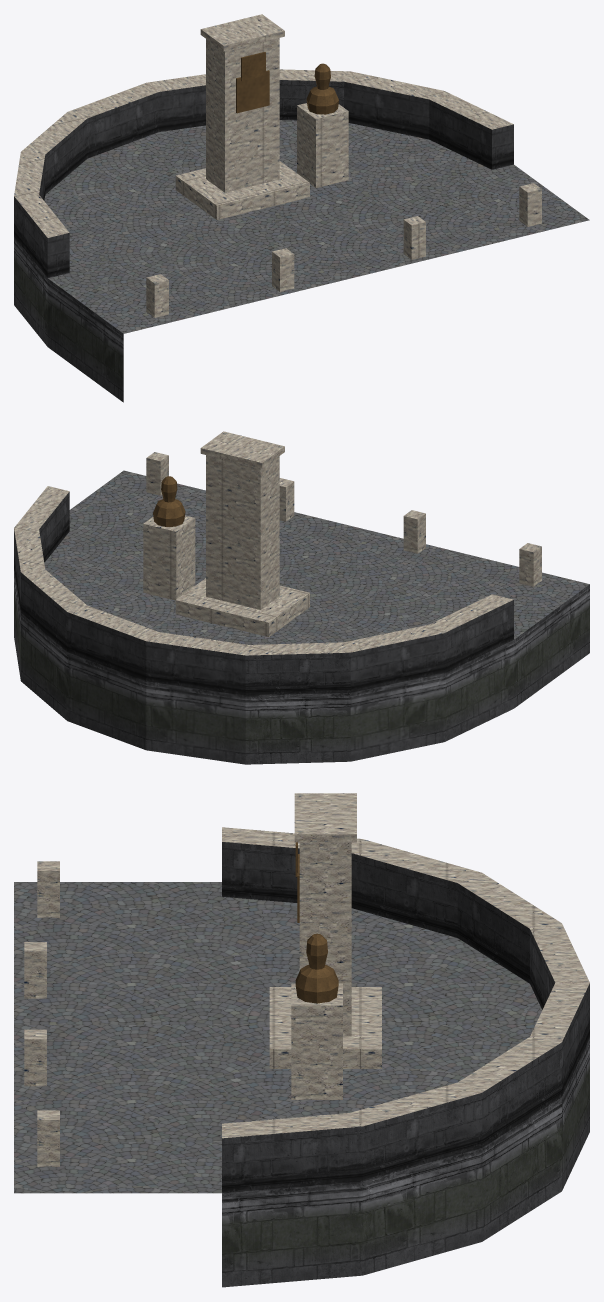
File: SM_MoloItalia_Monumento_LOD2.fbx
The picture shows the model from 3 angles, top to bottom: view 1: azimuth 30°, elevation 25°; view 2: azimuth 150°, elevation 25°; view 3: azimuth 270°, elevation 25°; orthographic projection. The views are drawn at different scales.
Parts seen in each view (by area): view 1: SM_MoloItalia_Monumento_LOD2; view 2: SM_MoloItalia_Monumento_LOD2; view 3: SM_MoloItalia_Monumento_LOD2.
Part boxes in pixels (x1,y1,x2,y2): SM_MoloItalia_Monumento_LOD2: [14, 14, 589, 402]; SM_MoloItalia_Monumento_LOD2: [14, 431, 589, 764]; SM_MoloItalia_Monumento_LOD2: [14, 793, 589, 1287].
Bounding box in the file's own units: 850 × 665 × 405.
4 materials, 4 textured.
